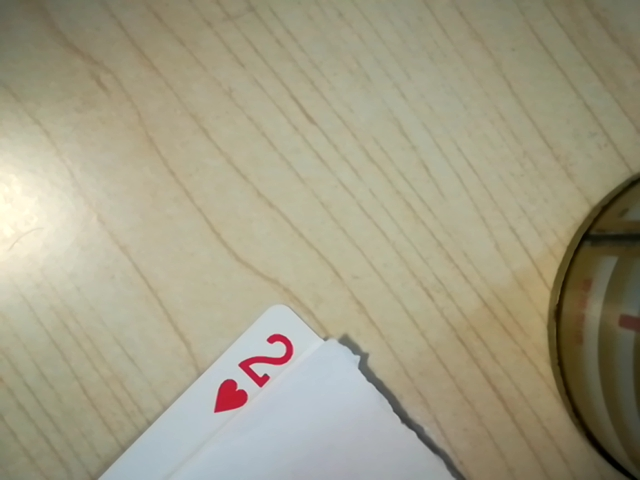hx 2: (206, 332, 306, 415)
